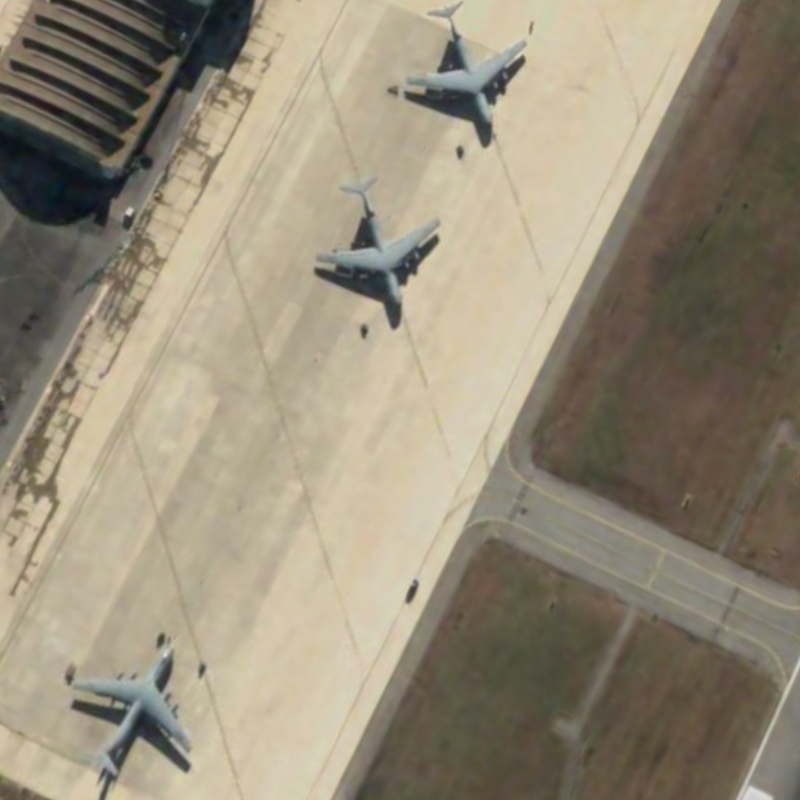A4: (302, 166, 449, 324), (66, 637, 197, 785), (400, 5, 532, 144)
